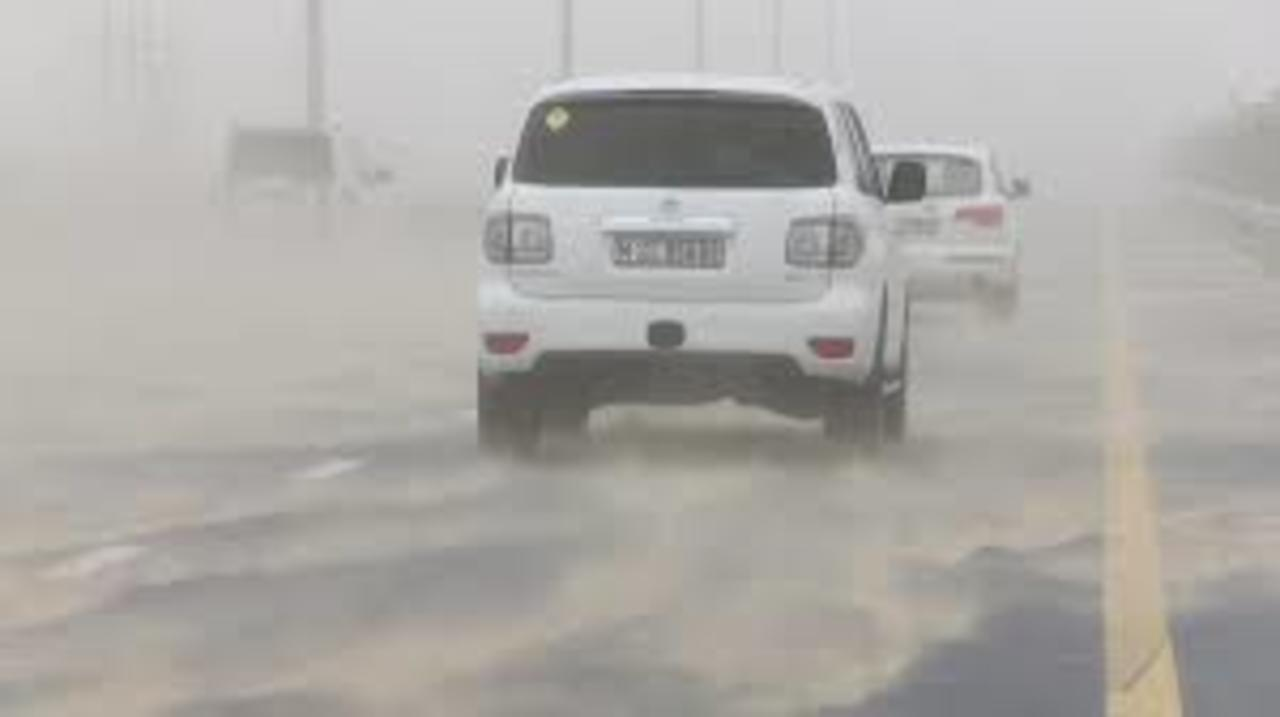car: (481, 73, 906, 458), (872, 140, 1028, 303)
truck: (216, 117, 386, 205)
